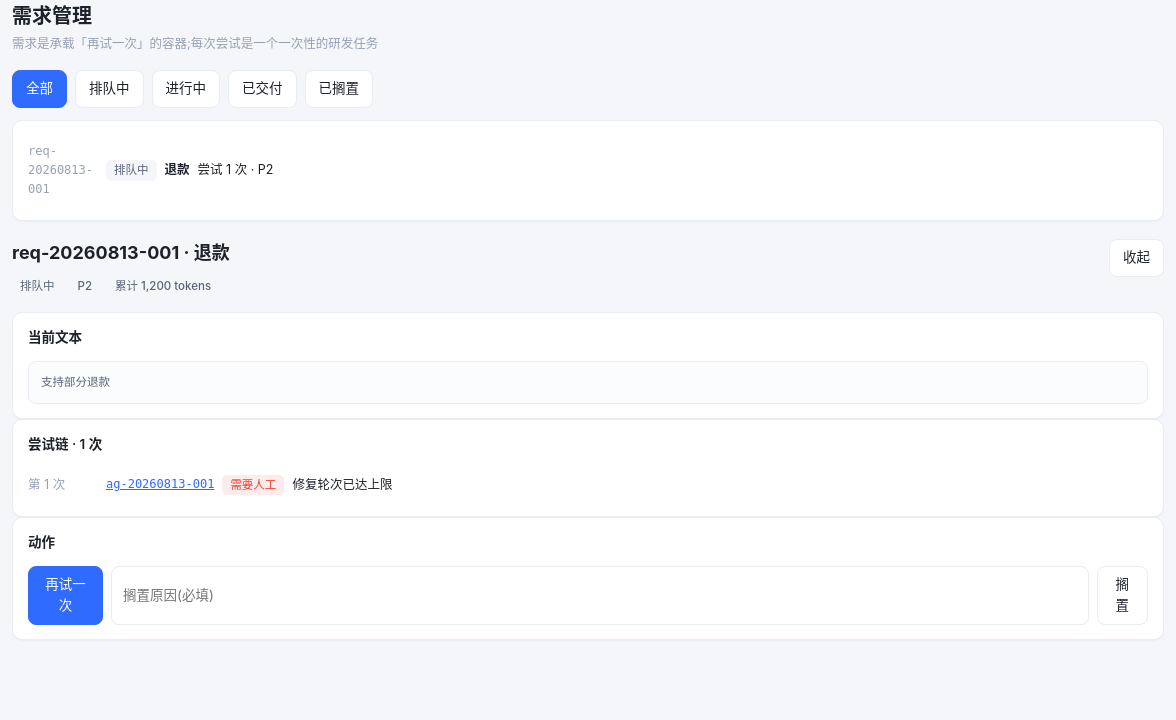
Requirements › shows the failure and stays in the old state when parking fails
The image size is (1176, 720).
Type "x" into the field with placeholder "搁置原因(必填)" at (600, 595), box [111,566,1088,625]
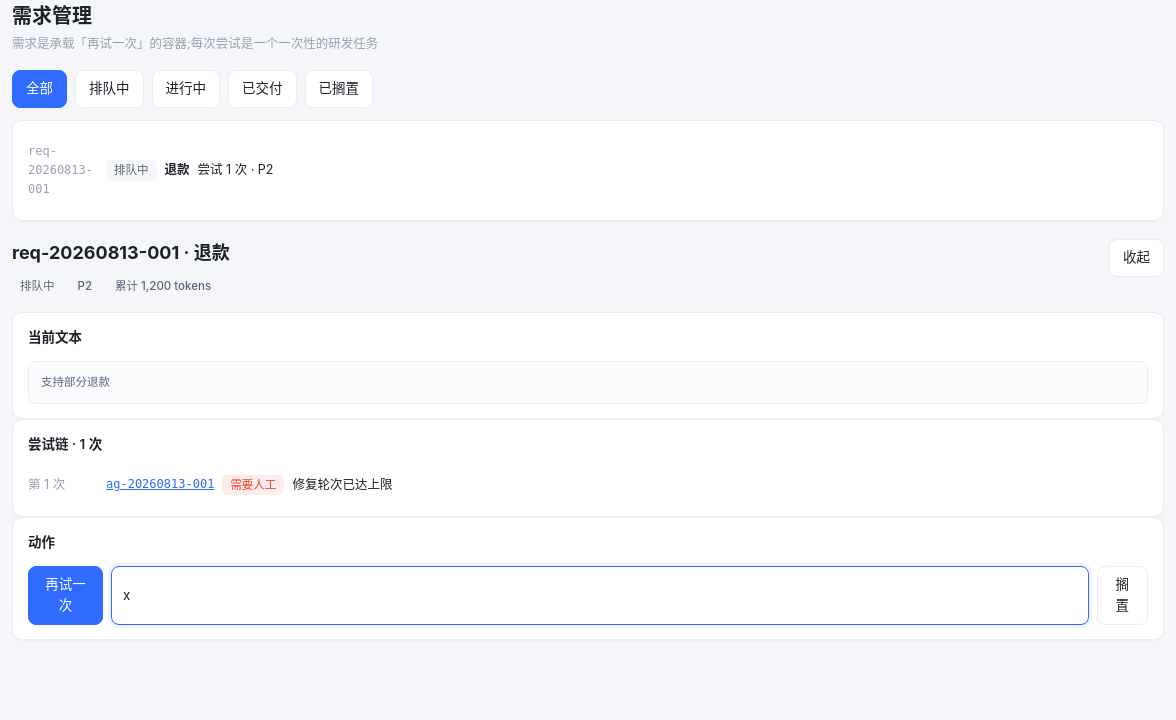
Click the button "搁置" at (1122, 595), box [1096,566,1148,625]
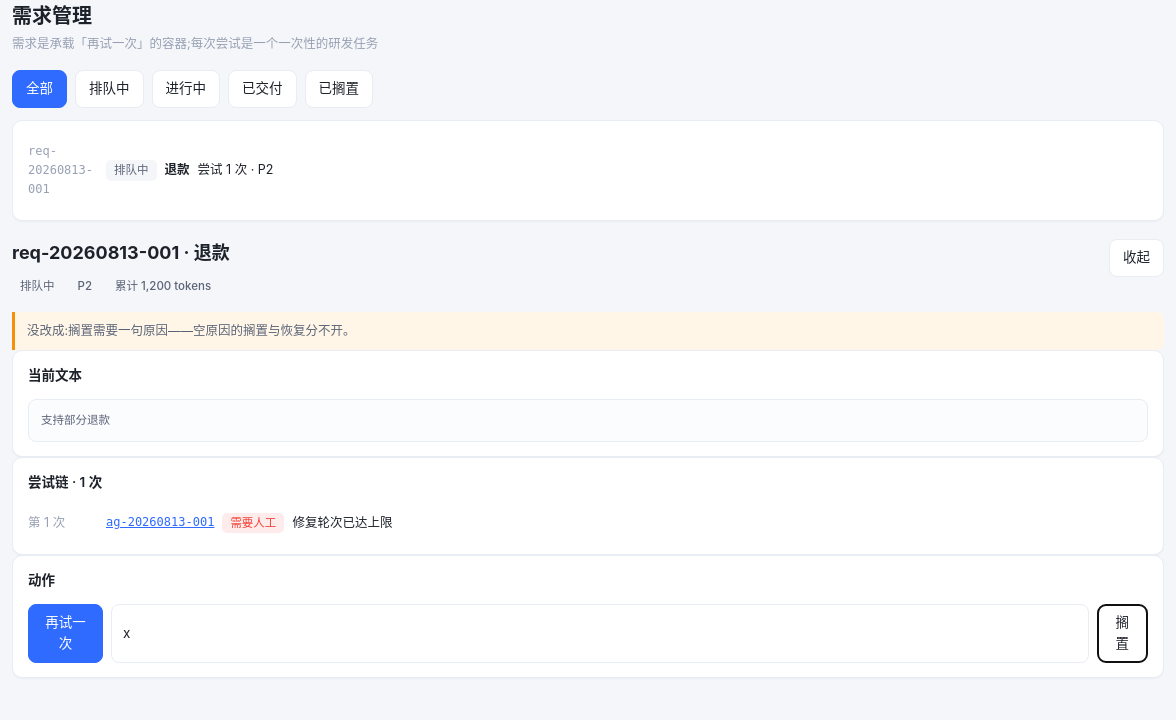
Now the text "没改成:搁置需要一句原因——空原因的搁置与恢复分不开。" is shown, box [12,312,1164,350]
